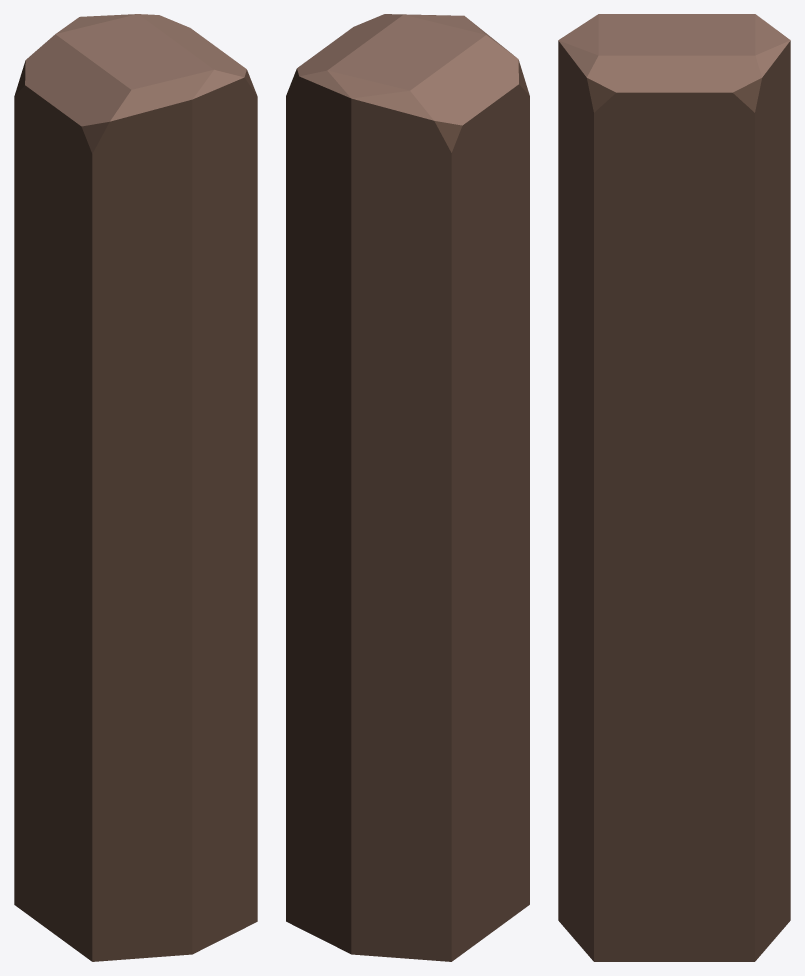
The model's file is stone_pillar_04.glb.
3 renders of one model, left to right at view 1: azimuth 30°, elevation 25°; view 2: azimuth 150°, elevation 25°; view 3: azimuth 270°, elevation 25°, orthographic. The views are drawn at different scales.
Parts seen in each view (by area): view 1: Plane.002; view 2: Plane.002; view 3: Plane.002.
Boxes of the visible parts, x1,y1,x2,y2 form: Plane.002: [14, 14, 257, 961]; Plane.002: [286, 14, 529, 961]; Plane.002: [558, 14, 790, 961].
Bounding box in the file's own units: 10 × 49.71 × 11.83.
Materials: 1 (1 with a texture image).
